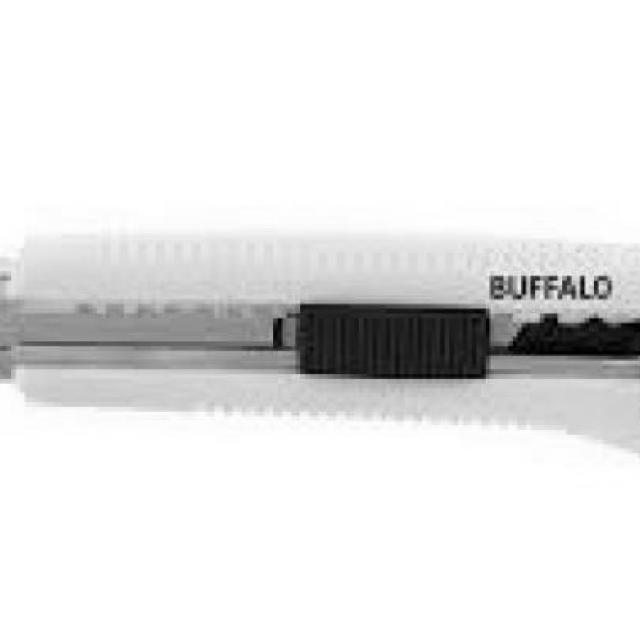estilete: (0, 233, 640, 454)
